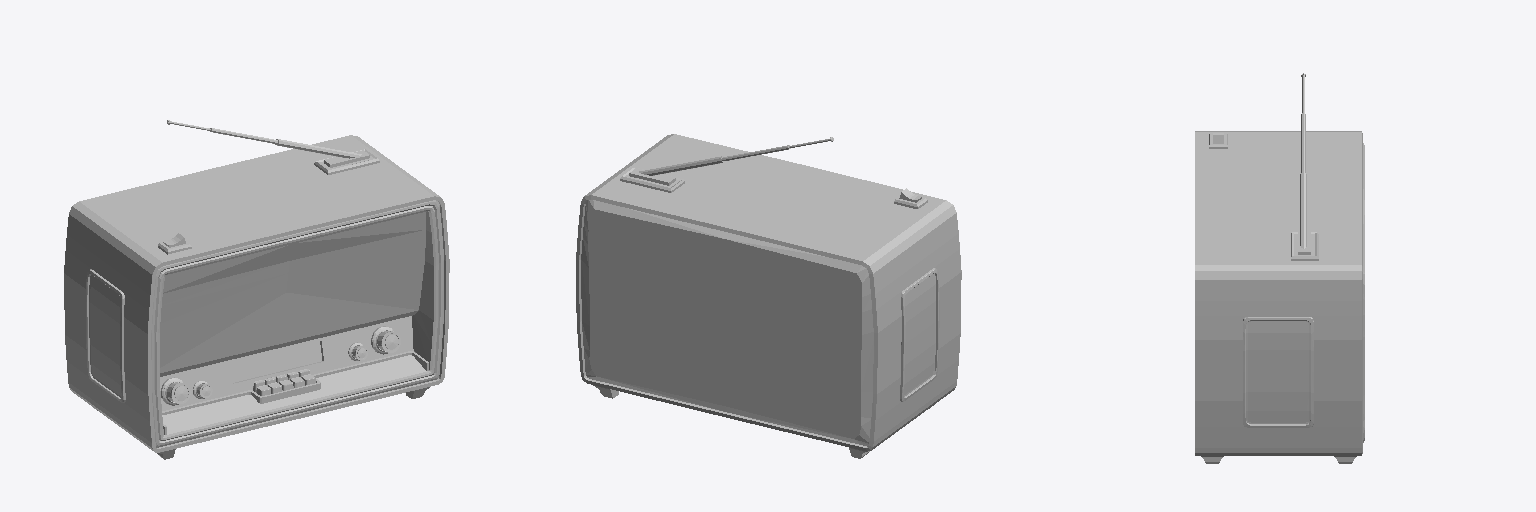
File: Radio.obj
3 views of the same model, side by side, from view 1: azimuth 30°, elevation 25°; view 2: azimuth 150°, elevation 25°; view 3: azimuth 270°, elevation 25° (orthographic).
Parts seen in each view (by area): view 1: Circle.001; view 2: Circle.001; view 3: Circle.001.
Part boxes in pixels (left/top/right/bottom): Circle.001: left=64, top=120, right=449, bottom=459; Circle.001: left=576, top=134, right=961, bottom=458; Circle.001: left=1195, top=73, right=1364, bottom=463.
Size of the model in its own units: 210 by 191 by 101.